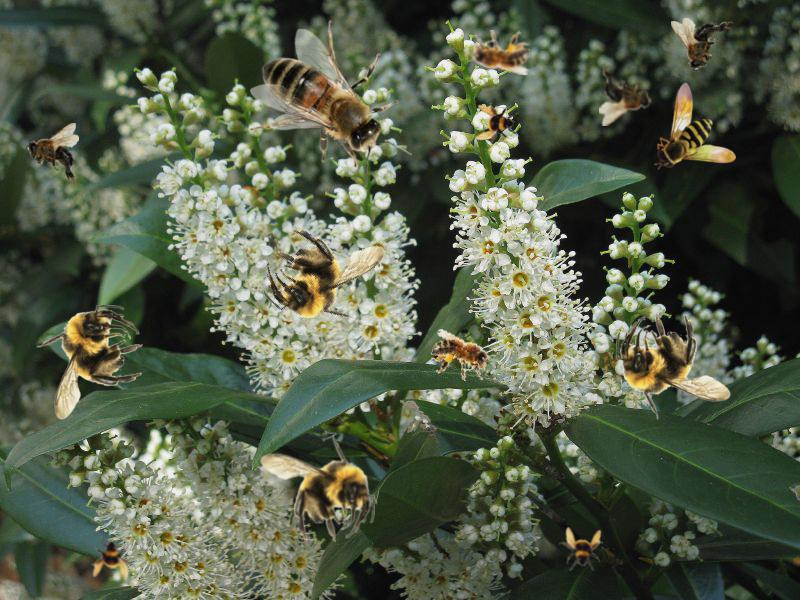Bee: (250, 20, 412, 187), (246, 194, 403, 351), (616, 313, 731, 420), (36, 305, 143, 420), (260, 435, 375, 542), (654, 82, 736, 170), (426, 328, 502, 387), (599, 64, 652, 126), (671, 18, 733, 71), (26, 123, 79, 185), (464, 30, 530, 75), (475, 103, 519, 147), (91, 536, 135, 580), (559, 527, 603, 571)
